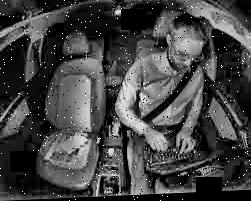seatbelt: (126, 55, 208, 143)
